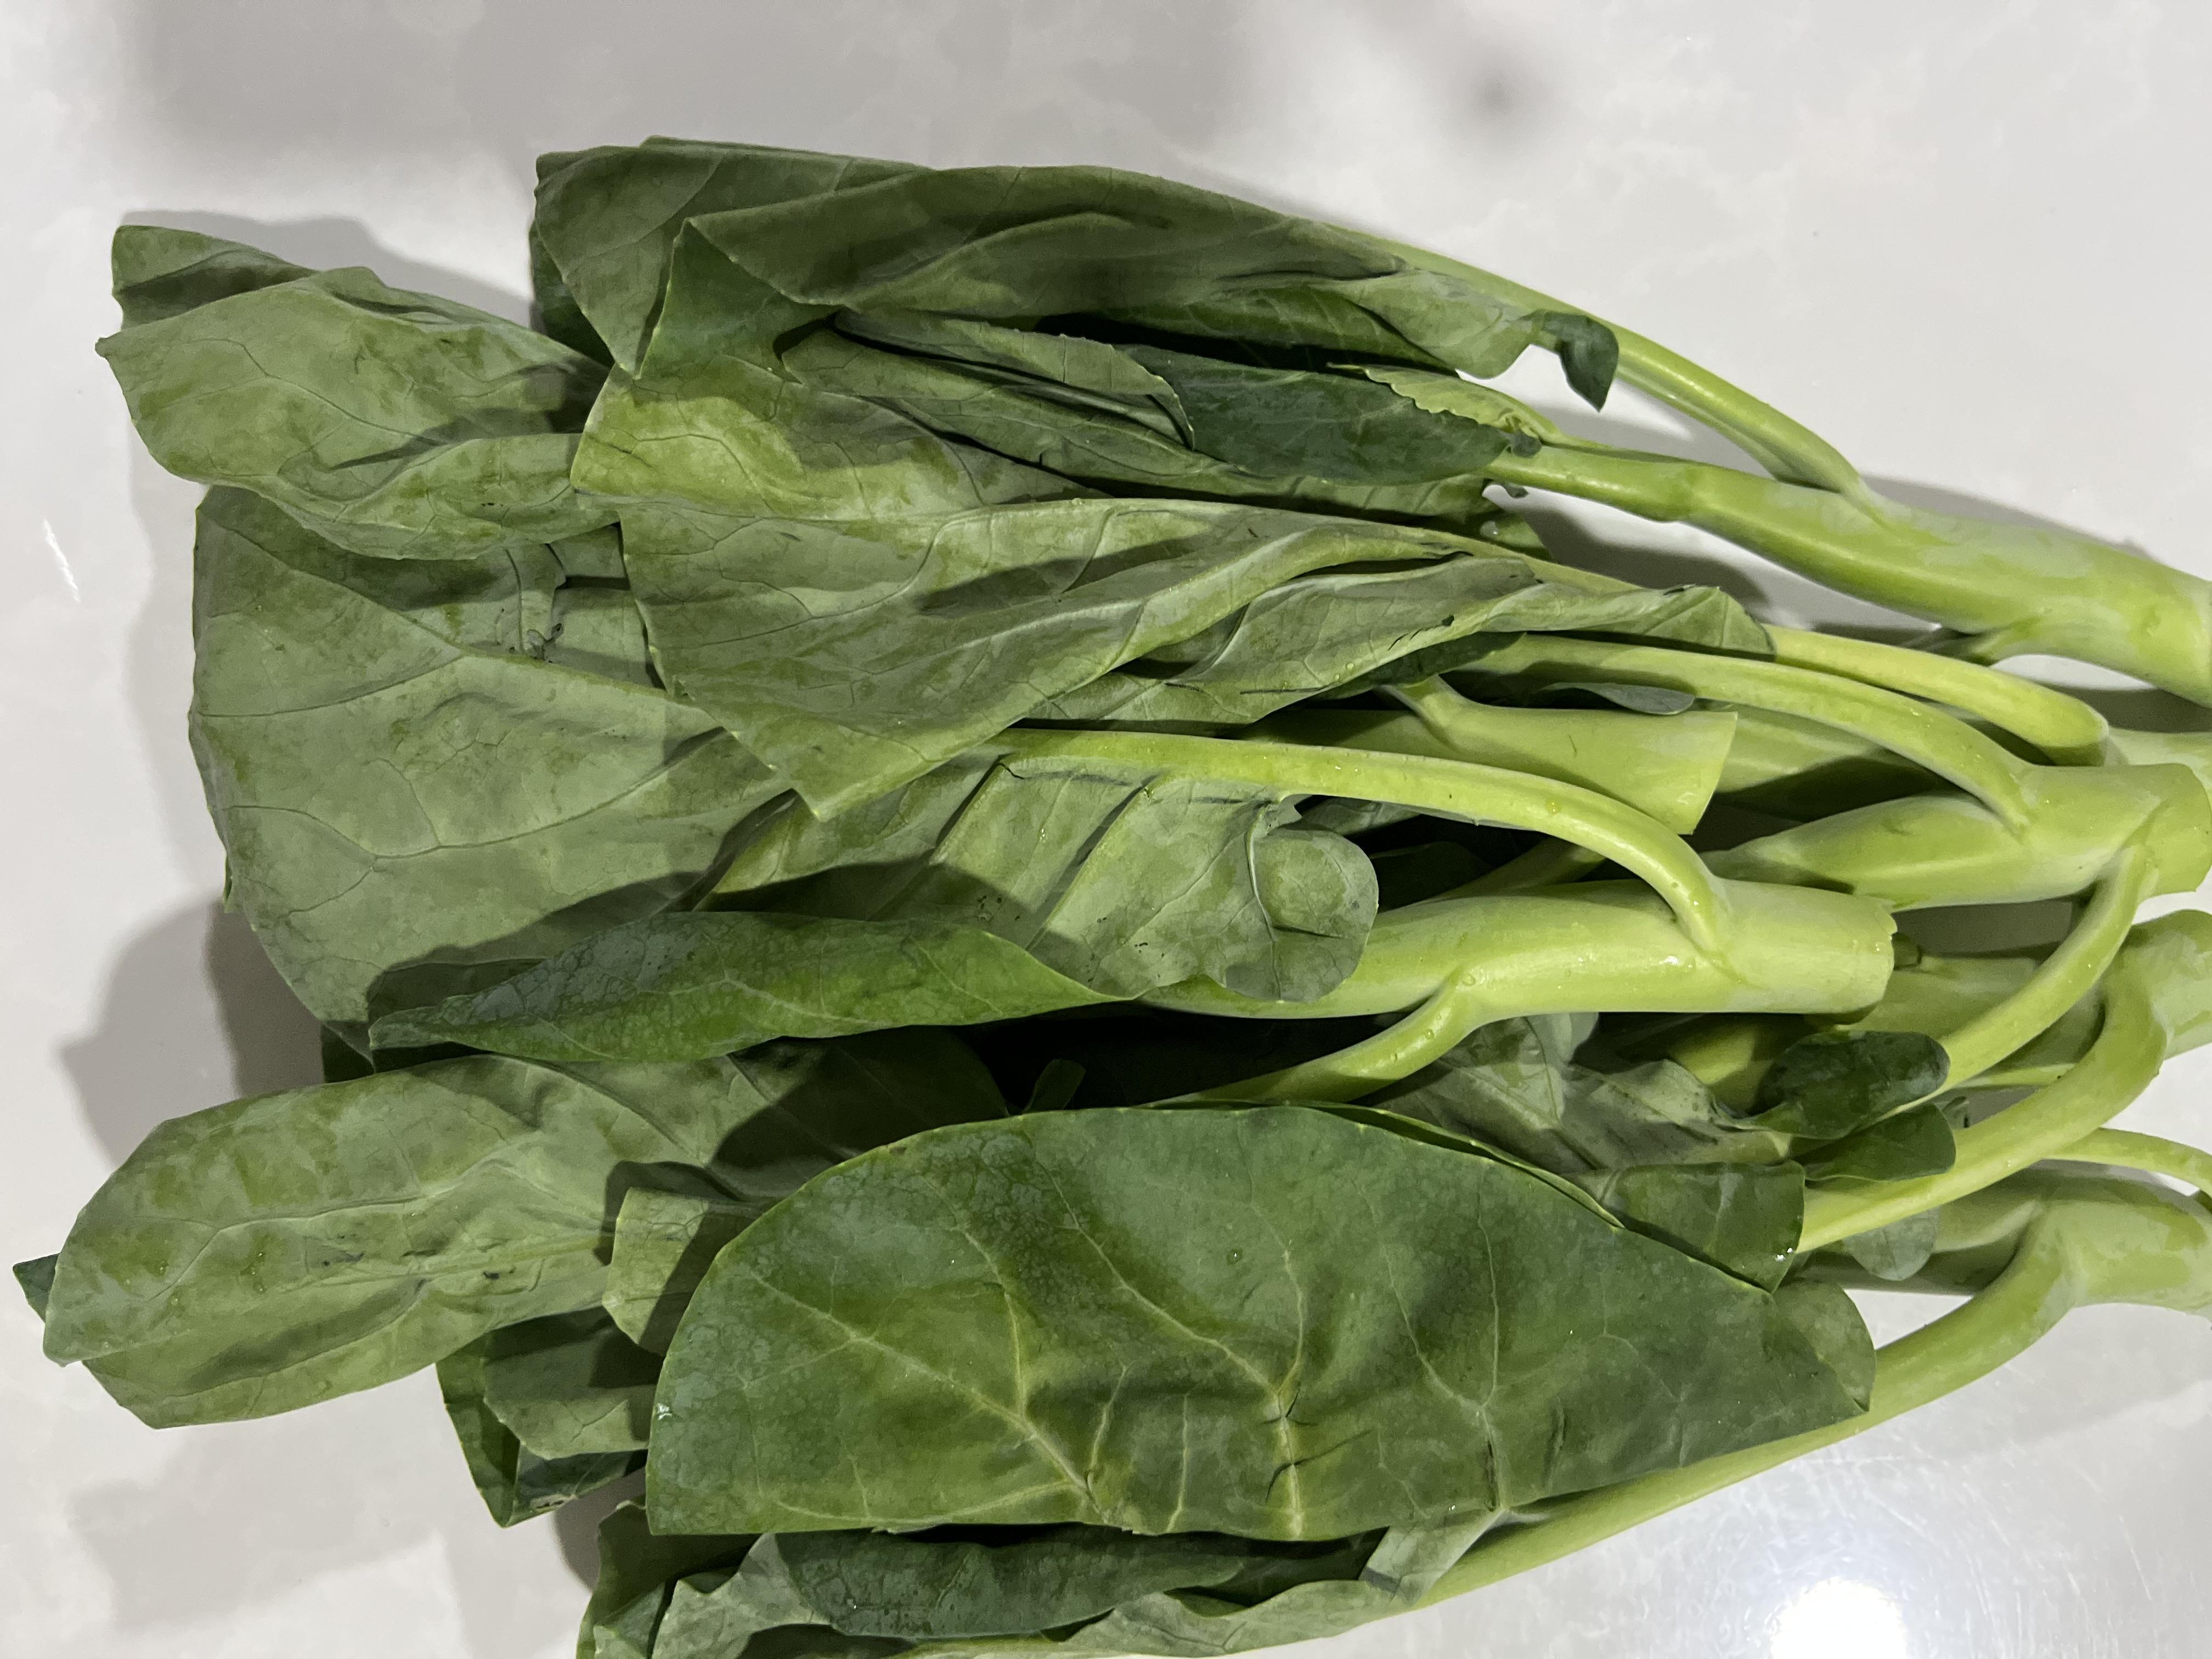Healthy-Pechay: (105, 115, 2067, 1659)
